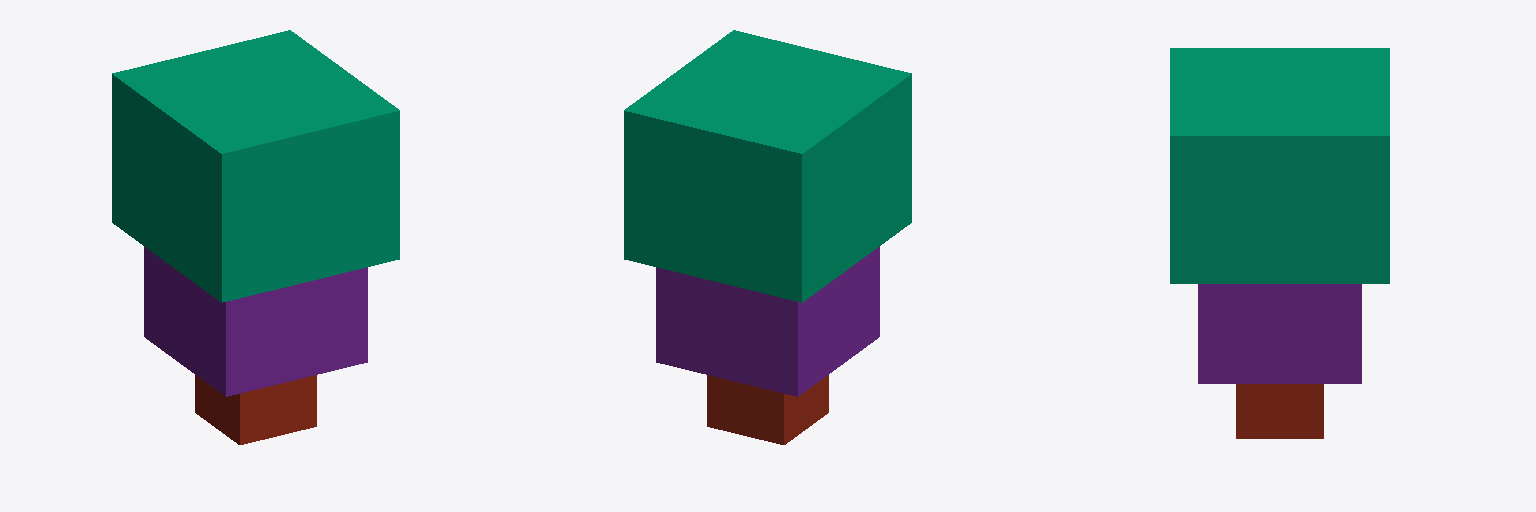
The model's file is boxstack.obj.
3 views of the same model, side by side, from view 1: azimuth 30°, elevation 25°; view 2: azimuth 150°, elevation 25°; view 3: azimuth 270°, elevation 25° (orthographic).
Size of the model in its own units: 0.7157 by 1.25 by 0.7628.